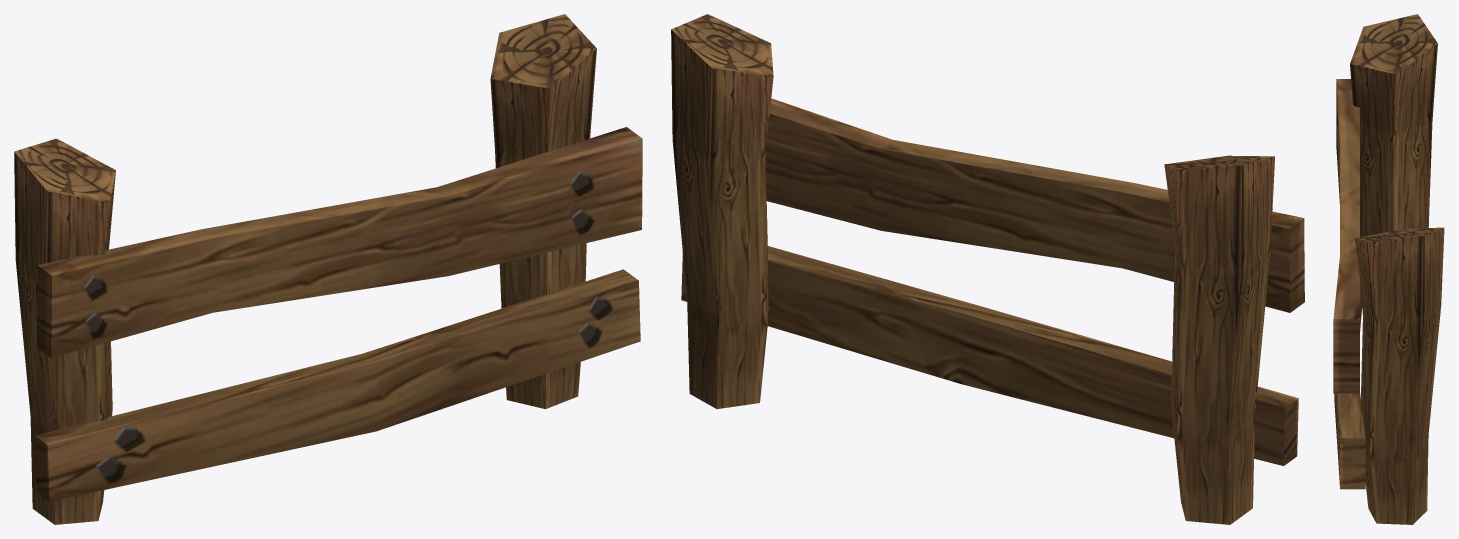
Rendered from fanasty_mod_gro_fence01.fbx.
The picture shows the model from 3 angles, left to right: view 1: azimuth 30°, elevation 25°; view 2: azimuth 150°, elevation 25°; view 3: azimuth 270°, elevation 25°; orthographic projection. The views are drawn at different scales.
Visible parts, largest first — view 1: gro_fence_01; view 2: gro_fence_01; view 3: gro_fence_01.
Part boxes in pixels (x1=…): gro_fence_01: x1=14, y1=14, x2=642, y2=524; gro_fence_01: x1=671, y1=14, x2=1304, y2=524; gro_fence_01: x1=1333, y1=14, x2=1444, y2=524.
Bounding box in the file's own units: 2.32 × 1.34 × 0.4589.
